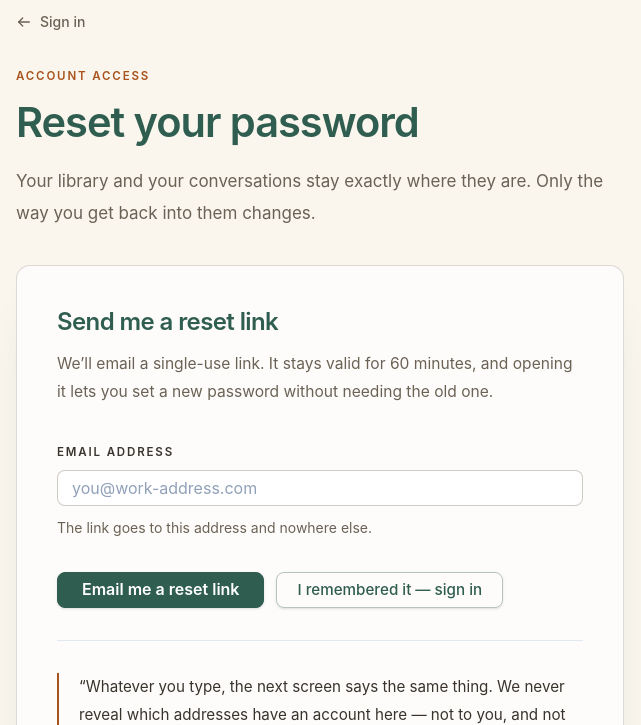
Scenario: ResetPassword - request a link › renders the same confirmation even when the account does not exist (neutral by construction)
Step 1. Type "unknown@example.com" into the field labelled "Email address" → (320, 488), box [57,470,583,506]
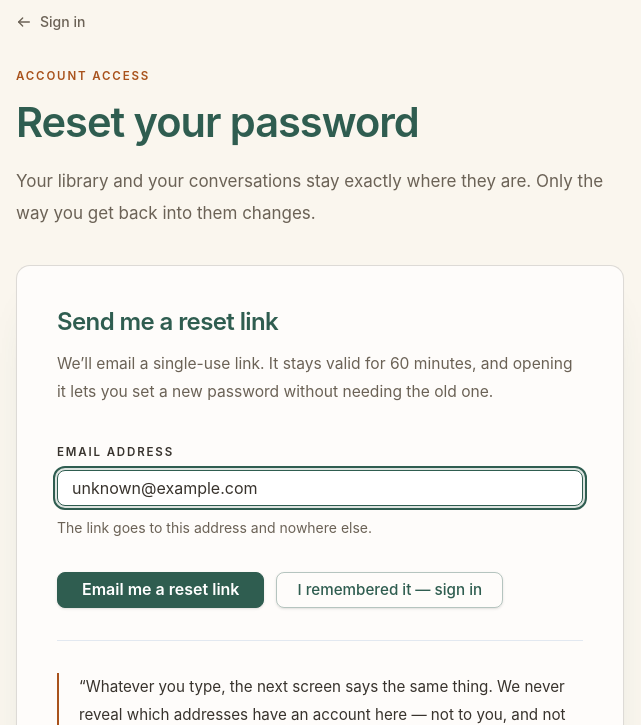
Step 2. Click the button "Email me a reset link" → click(161, 590), box [57,572,264,608]
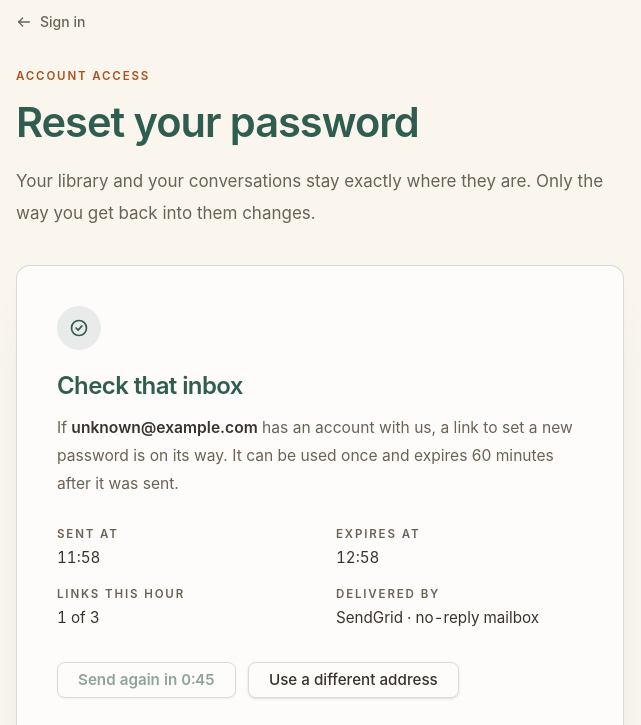
Check: the heading "Check that inbox" is shown, box [57,371,243,400]
Check: the text "unknown@example.com" is shown, box [71,418,258,437]
